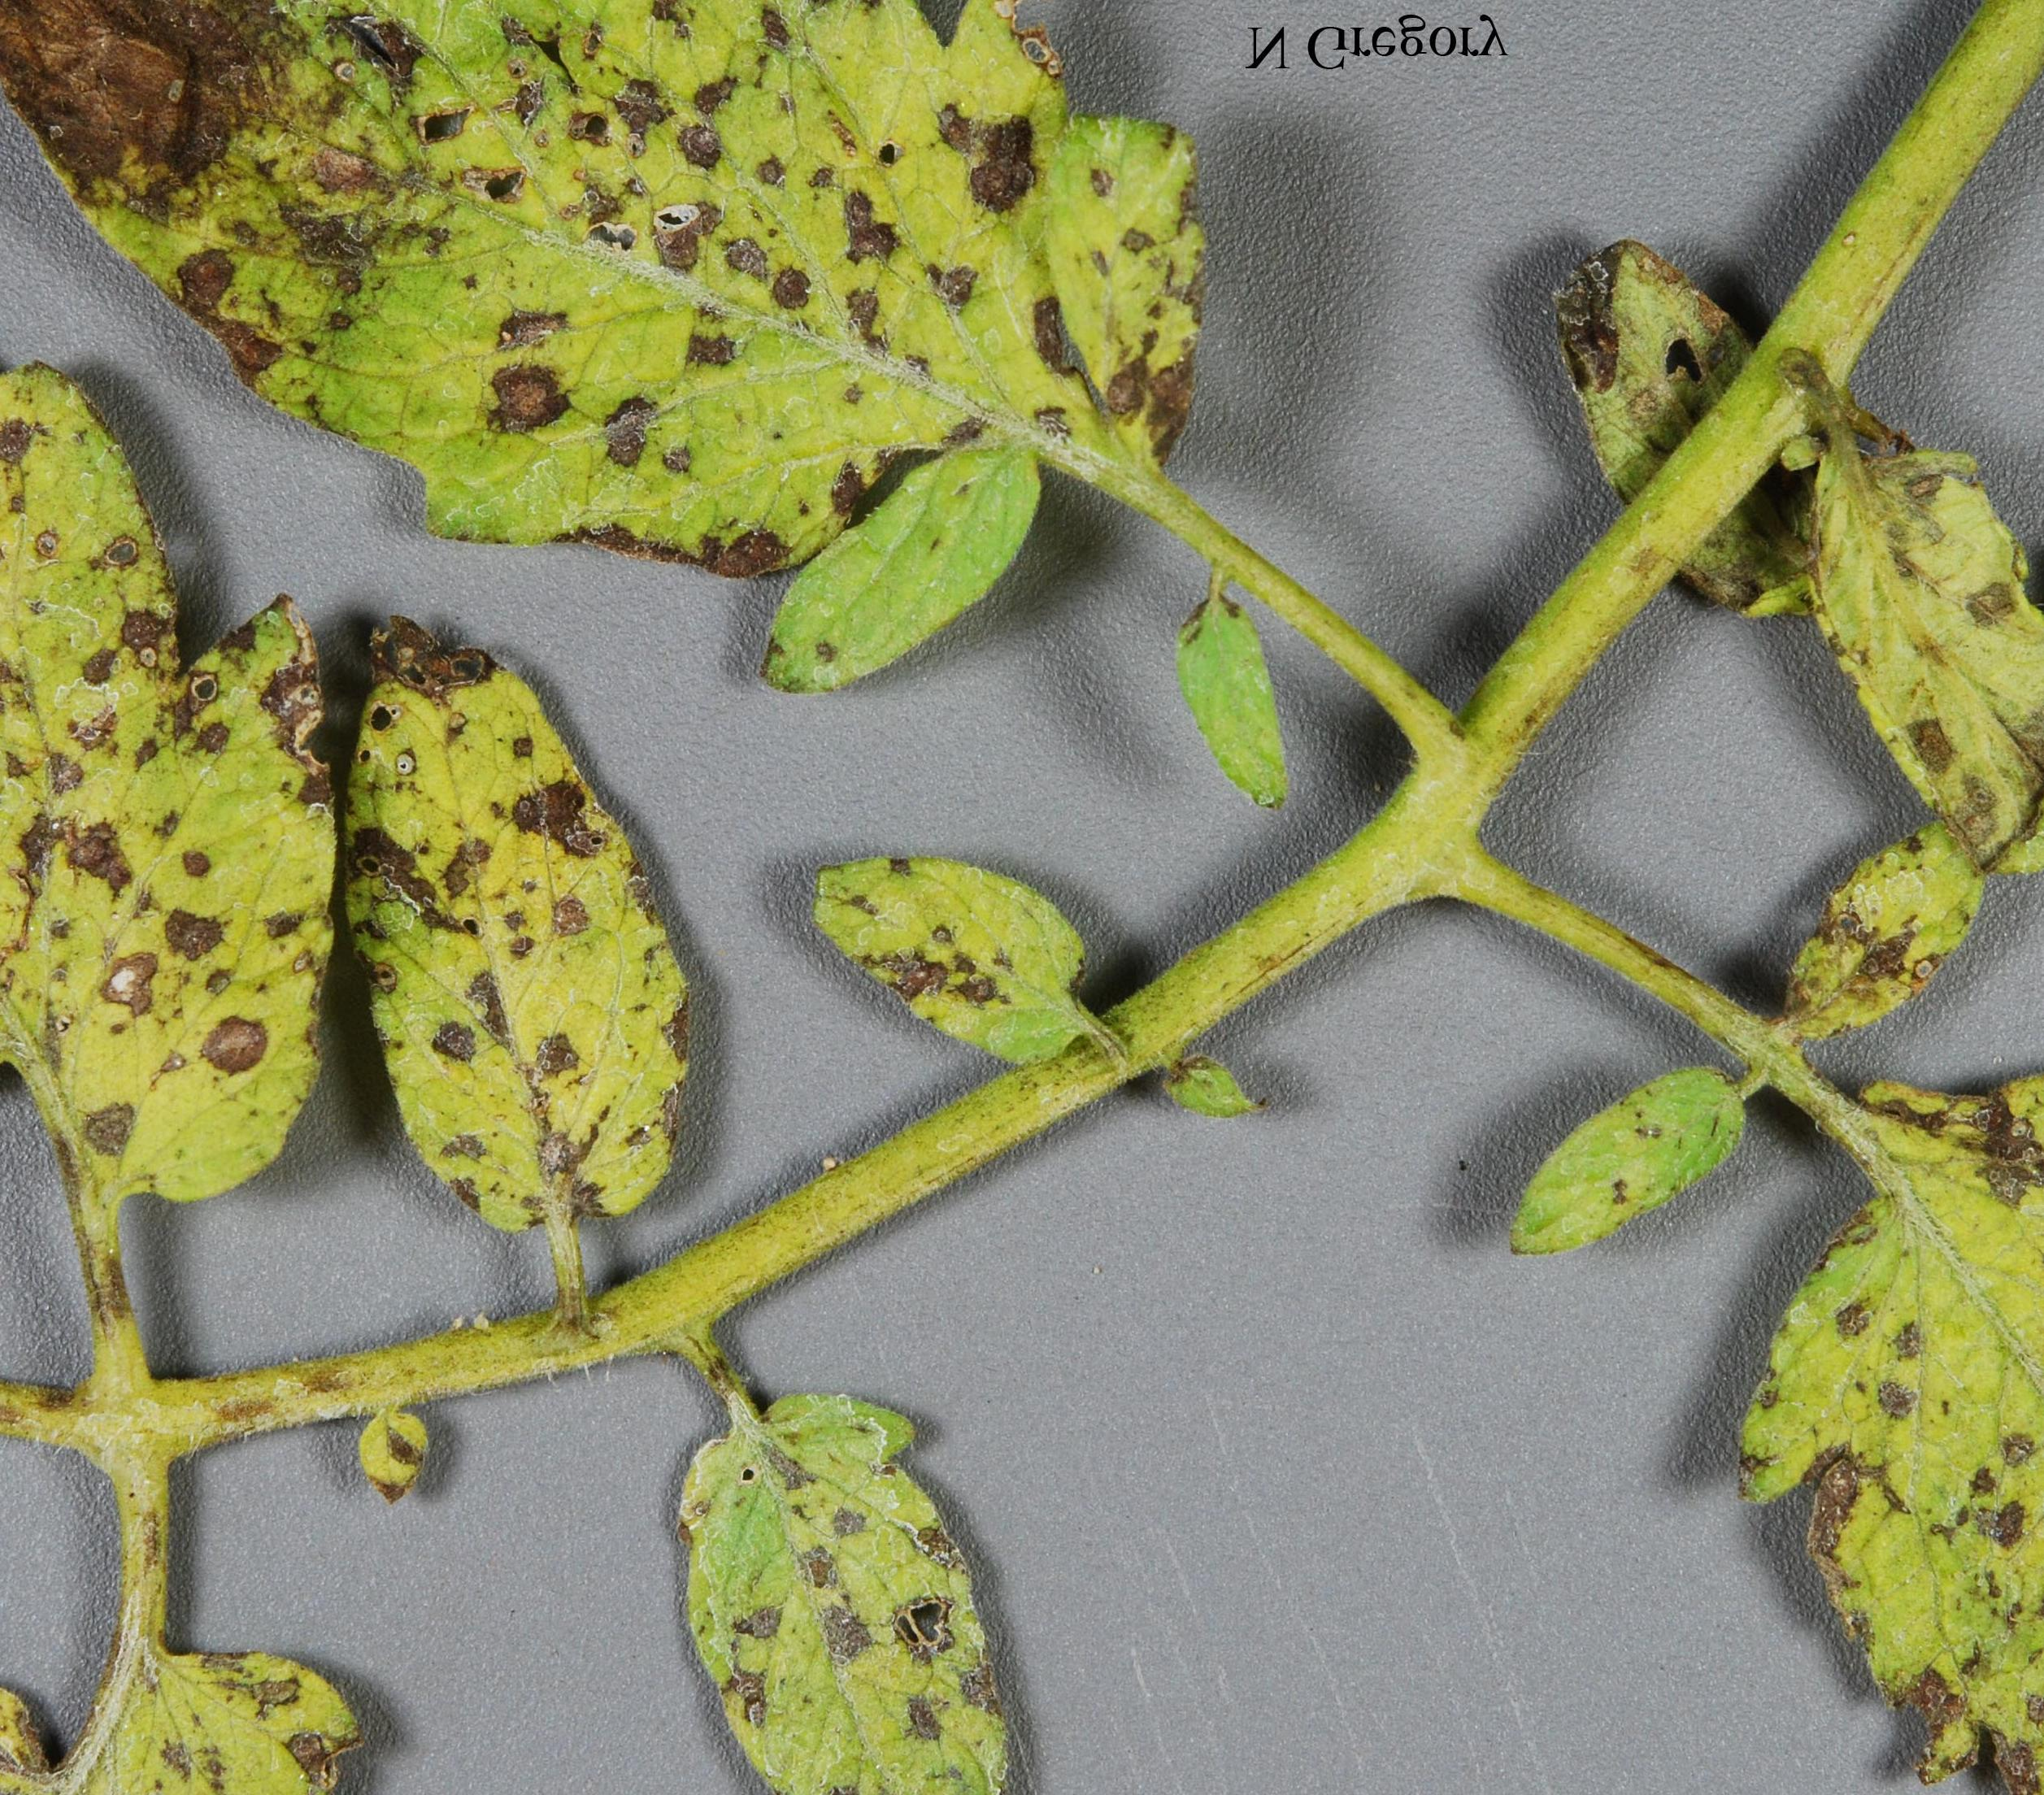Tomato Septoria leaf spot: (0, 0, 1231, 627), (0, 45, 342, 1293), (1641, 973, 2044, 1795), (290, 573, 688, 1230), (596, 1376, 1098, 1795), (1804, 361, 2044, 923), (767, 772, 1116, 1076)
